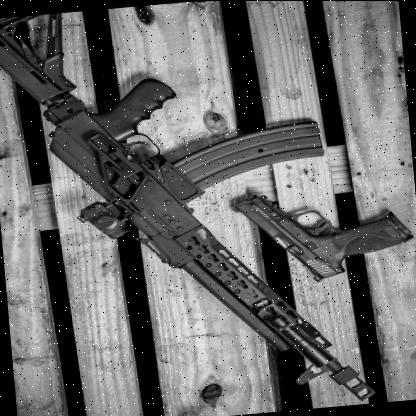rifle: (0, 0, 392, 416), (219, 167, 416, 297)
